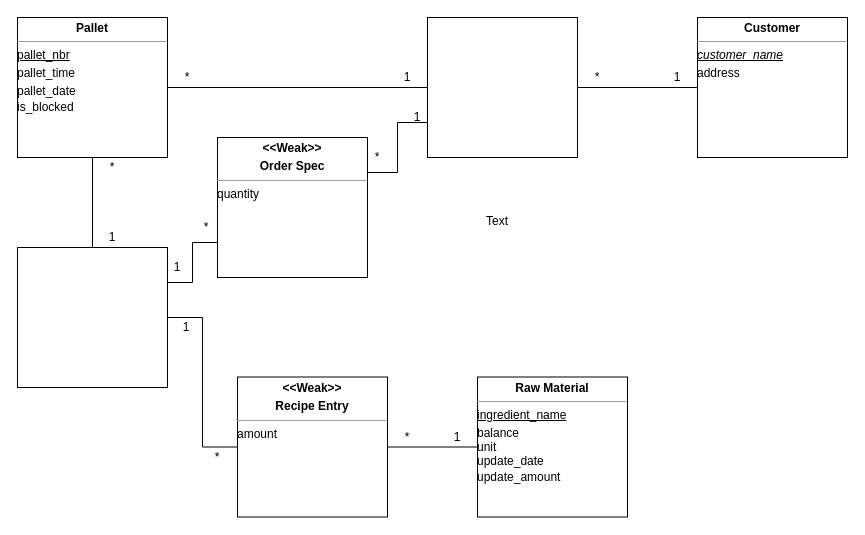
Image size: 865x535. Some labels were removed from this diagram. The shapes that lost their labels are listed below. From the top down, each one's centre as x and y in pixels, then its label:
At pixel 502 87: "Order order_id delivery_date order_date".
At pixel 92 317: "Recipe bar_code name".
